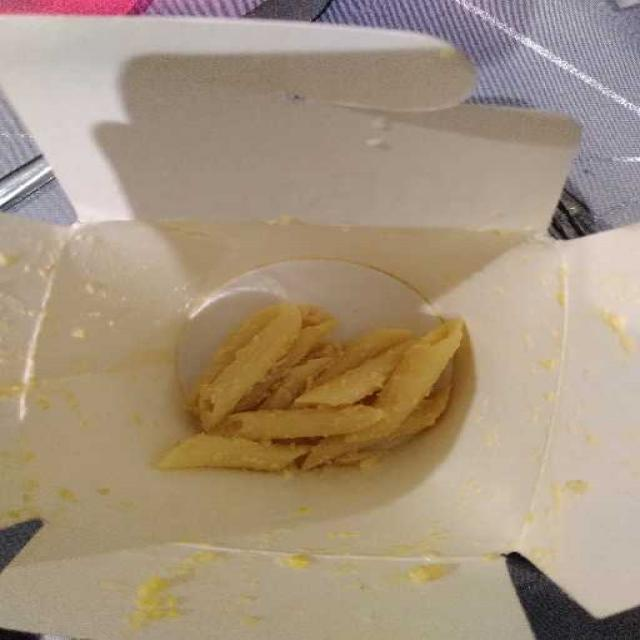pasta: (166, 309, 454, 476)
